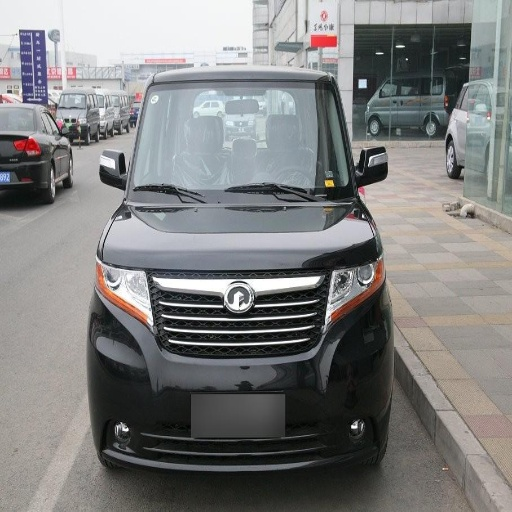front_bumper: (90, 268, 392, 464)
front_right_light: (97, 250, 151, 319)
hood: (105, 190, 375, 272)
